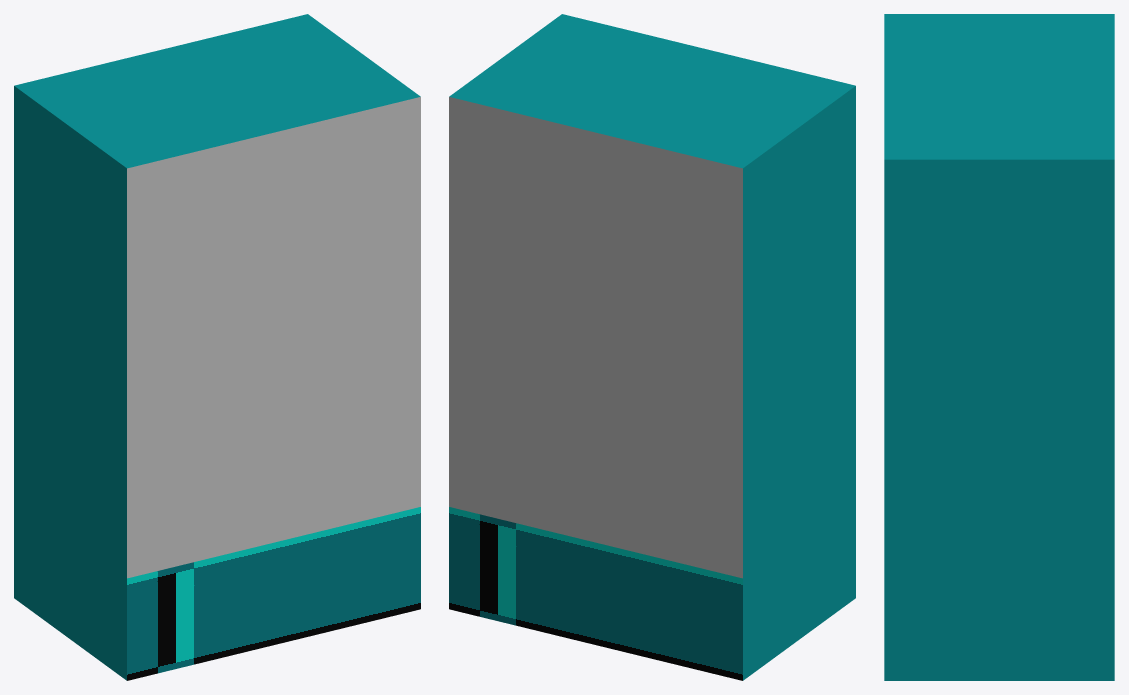
Rendered from Dungeon Door Wall.fbx.
3 views of the same model, side by side, from view 1: azimuth 30°, elevation 25°; view 2: azimuth 150°, elevation 25°; view 3: azimuth 270°, elevation 25° (orthographic).
Visible parts, largest first — view 1: 3DGeom~2, 3DGeom~4, 3DGeom~5, 3DGeom~1; view 2: 3DGeom~2, 3DGeom~4, 3DGeom~5, 3DGeom~1; view 3: 3DGeom~2.
Part boxes in pixels (x1=…): 3DGeom~2: x1=14, y1=14, x2=420, y2=680; 3DGeom~4: x1=127, y1=97, x2=420, y2=393; 3DGeom~5: x1=127, y1=322, x2=420, y2=578; 3DGeom~1: x1=127, y1=507, x2=420, y2=680; 3DGeom~2: x1=449, y1=14, x2=855, y2=680; 3DGeom~4: x1=449, y1=97, x2=742, y2=393; 3DGeom~5: x1=449, y1=322, x2=742, y2=578; 3DGeom~1: x1=449, y1=507, x2=742, y2=680; 3DGeom~2: x1=884, y1=14, x2=1114, y2=680.
Bounding box in the file's own units: 1.5 × 1 × 2.5.
